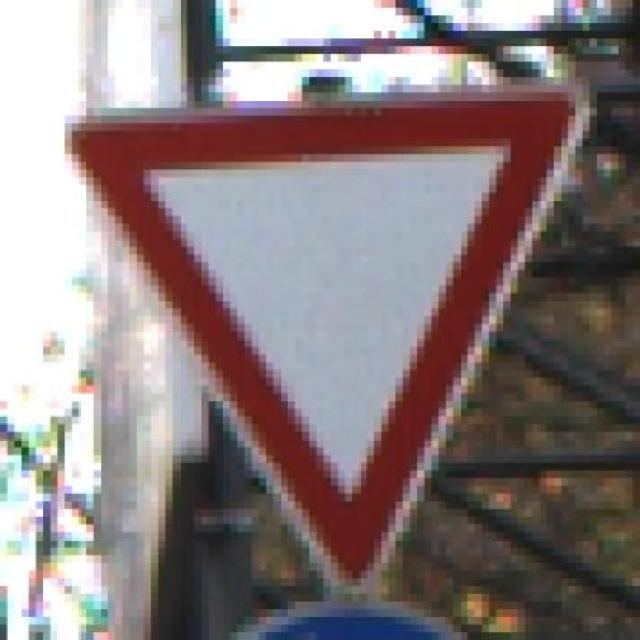Give Way: (50, 62, 604, 609)
